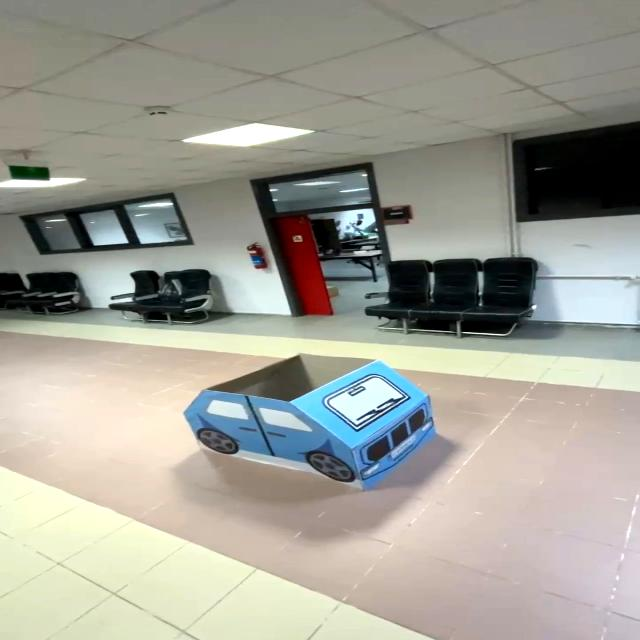blue_car: (153, 337, 458, 505)
